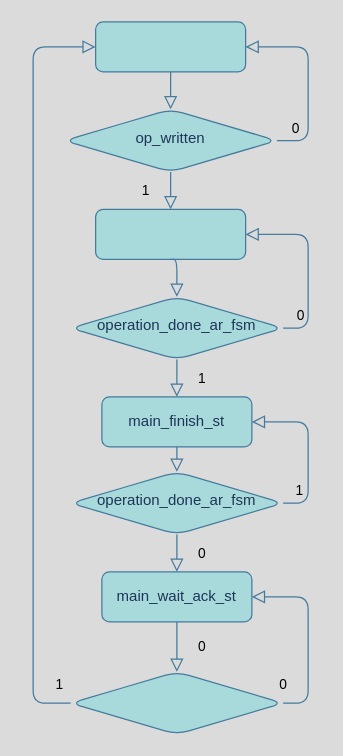
Some shapes in this 343 by 756 pixel diagram are drawn without their labels. Each missing label, with the centre of its shape:
end_ack: point (176, 702)
main_idle_st: point (170, 46)
main_wait_st: point (170, 233)
